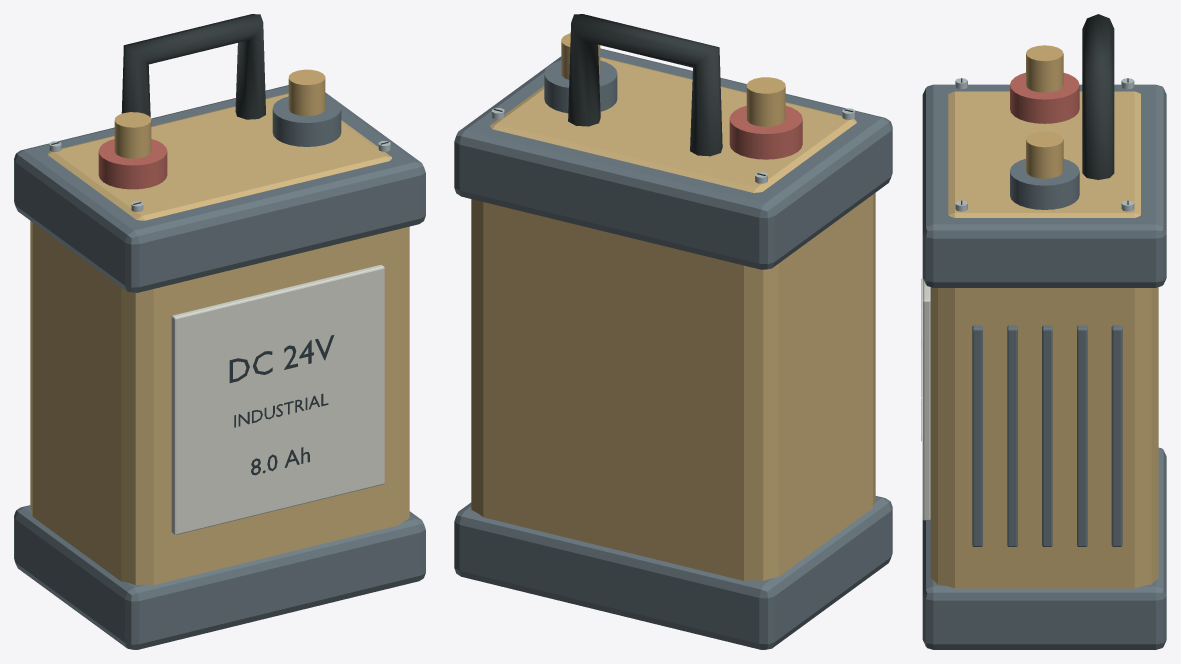
The model's file is loot_battery.glb.
The picture shows the model from 3 angles, left to right: view 1: azimuth 30°, elevation 25°; view 2: azimuth 150°, elevation 25°; view 3: azimuth 270°, elevation 25°; orthographic projection. The views are drawn at different scales.
Parts seen in each view (by area): view 1: loot_battery.001; view 2: loot_battery.001; view 3: loot_battery.001.
Part boxes in pixels (x1=…): loot_battery.001: x1=14, y1=14, x2=425, y2=649; loot_battery.001: x1=454, y1=14, x2=892, y2=649; loot_battery.001: x1=921, y1=14, x2=1166, y2=649.
Size of the model in its own units: 0.1315 by 0.2192 by 0.0916.
